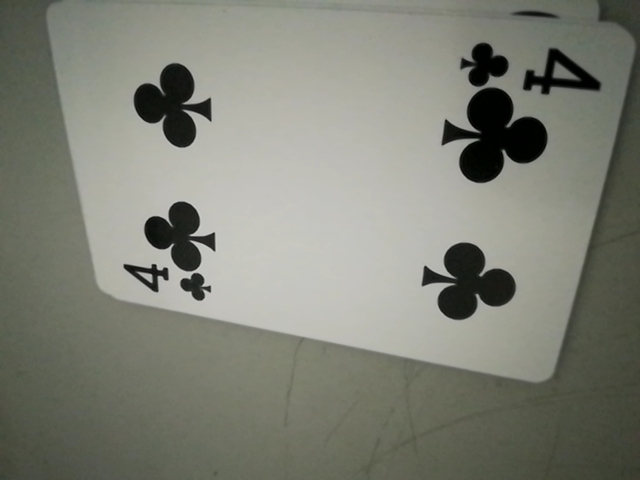mh 4: (458, 31, 602, 96), (115, 258, 219, 307)
